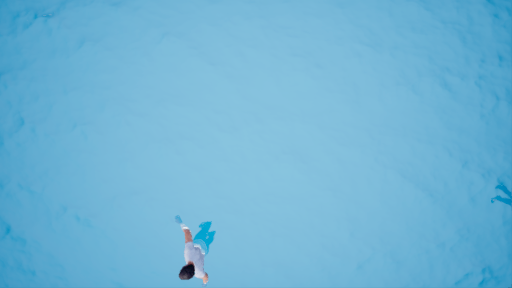person: (178, 208, 220, 285)
